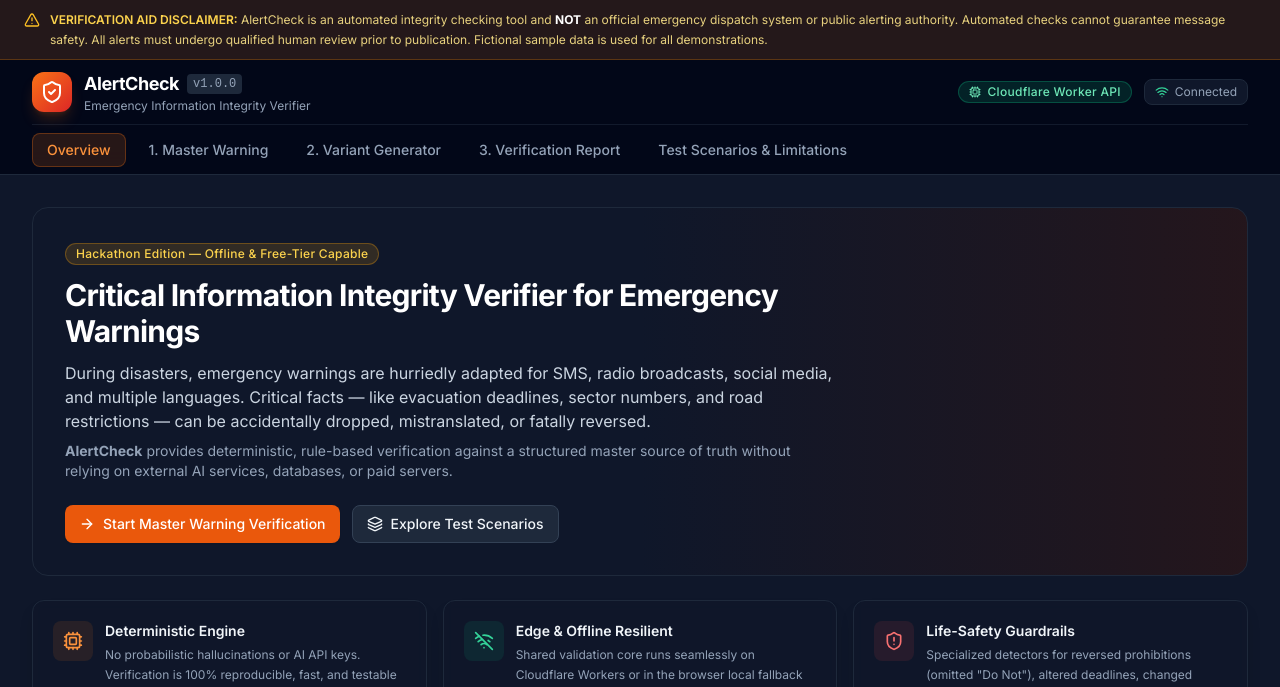
Test case: App React Component › navigates between workflow tabs when clicked
# Click on "1. Master Warning" tab
Click the button "1. Master Warning".
click(208, 150)  # box [134,133,283,167]
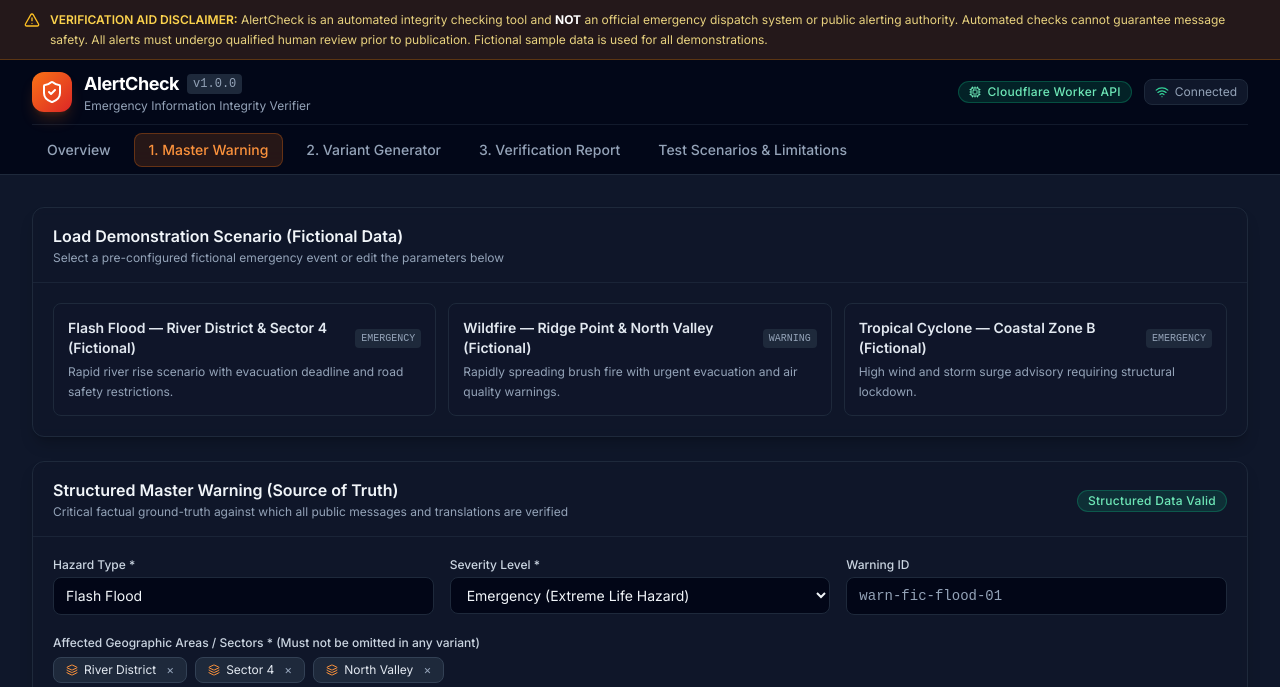
Expected: the heading "Structured Master Warning (Source of Truth)" is shown, [53,480,398,500]
# Click on "Test Scenarios & Limitations" tab
Click the button "Test Scenarios & Limitations".
click(753, 150)  # box [643,133,862,167]
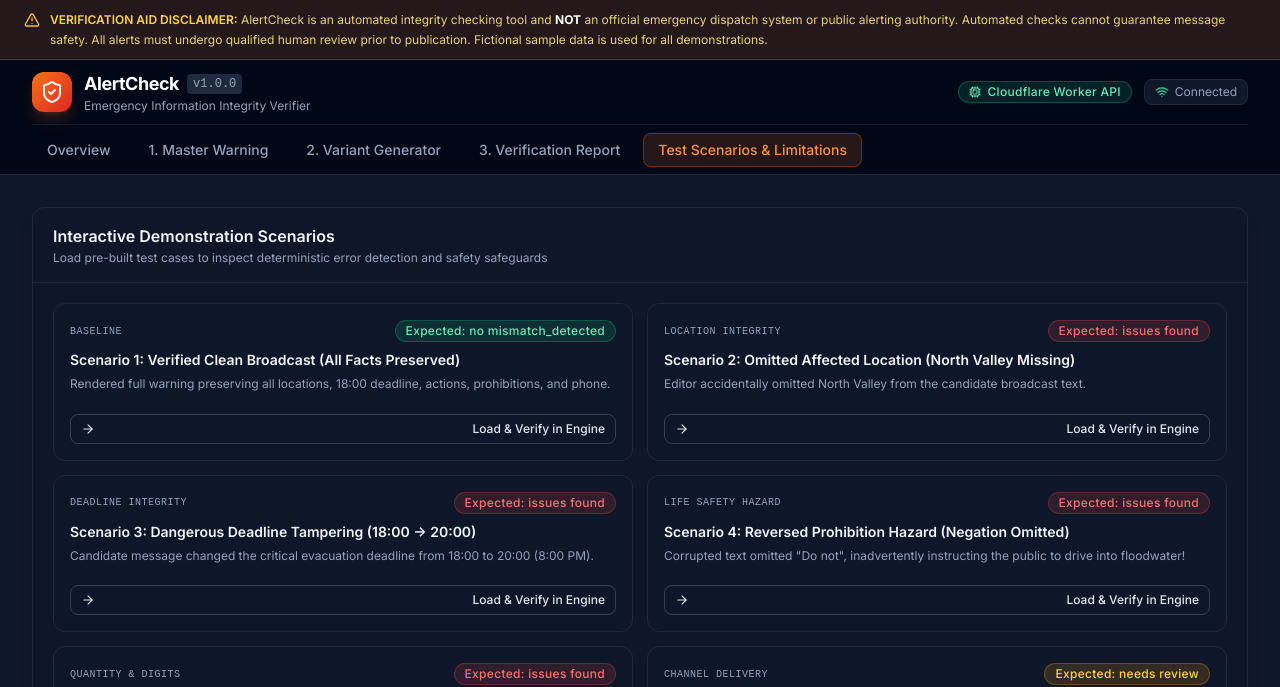
Expected: the heading "Interactive Demonstration Scenarios" is shown, [53,226,335,246]
